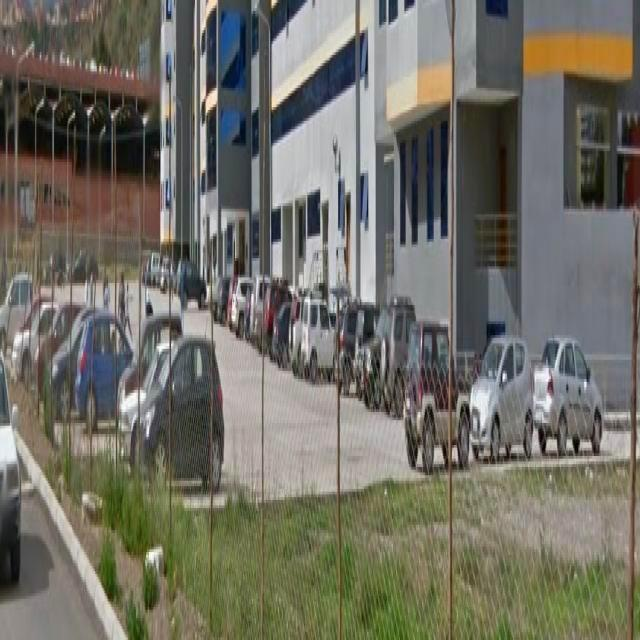Car: (464, 274, 534, 463), (142, 365, 230, 514), (406, 310, 467, 471), (538, 302, 605, 444), (78, 274, 136, 412), (76, 310, 124, 408), (302, 290, 332, 380), (381, 306, 402, 416)
